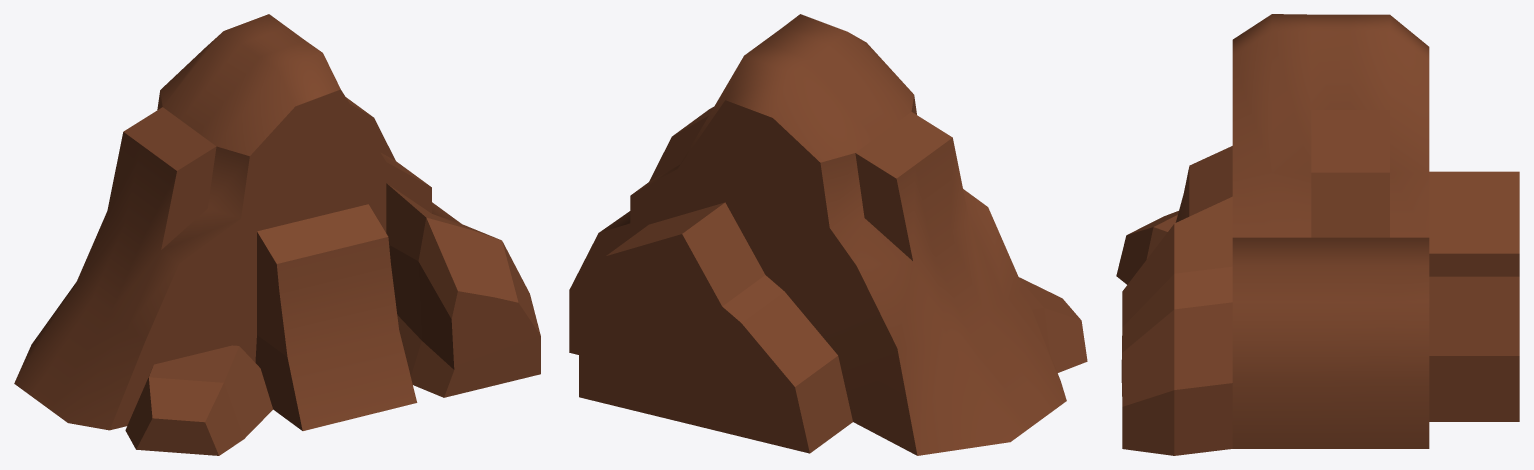
Rendered from Montaña1.FBX.
3 views of the same model, side by side, from view 1: azimuth 30°, elevation 25°; view 2: azimuth 150°, elevation 25°; view 3: azimuth 270°, elevation 25° (orthographic). The views are drawn at different scales.
Visible parts, largest first — view 1: Box002; view 2: Box002; view 3: Box002.
Part boxes in pixels (x1,y1,x2,y2): Box002: (14,14,540,455); Box002: (569,14,1087,455); Box002: (1116,14,1519,455).
Bounding box in the file's own units: 2502 × 1829 × 1912.
